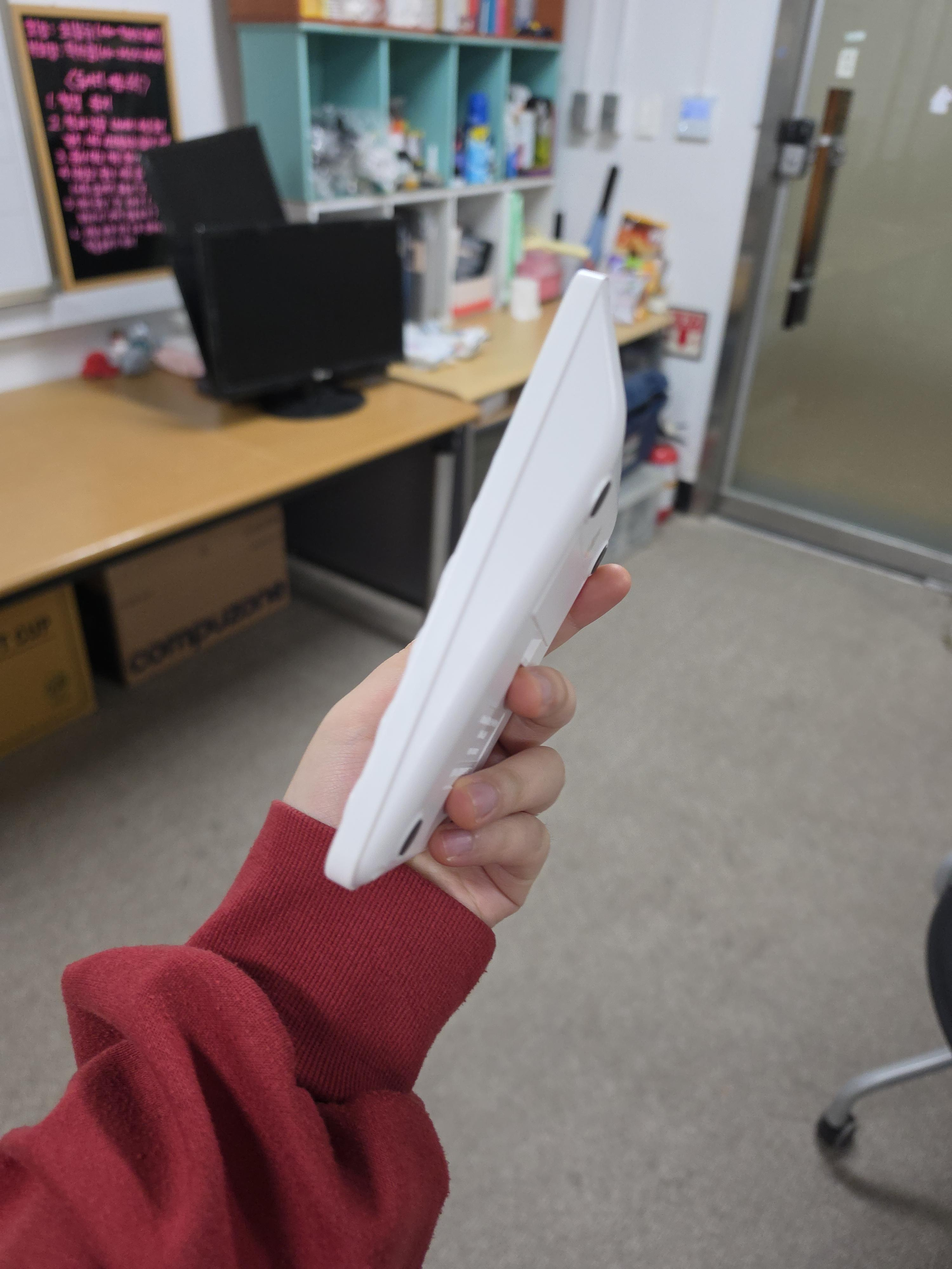calculator: (324, 269, 627, 891)
